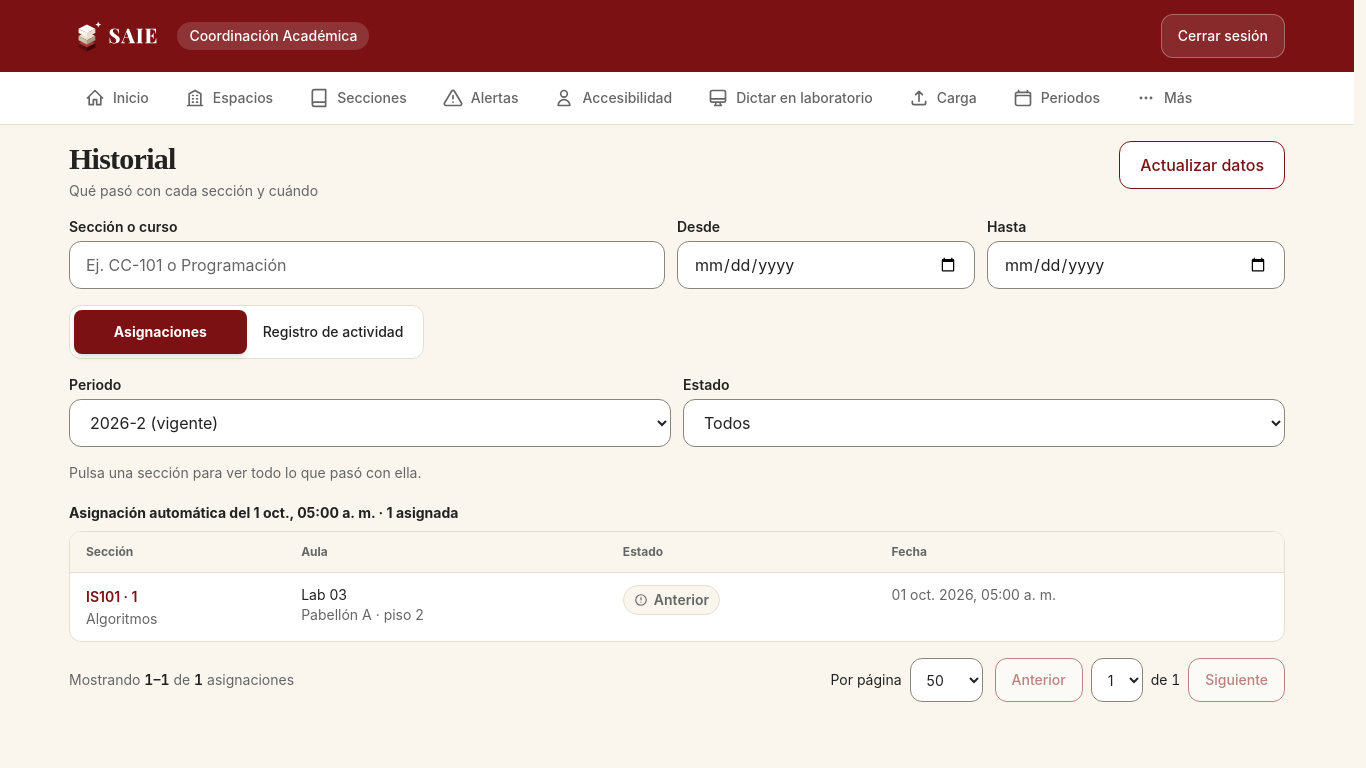
Test case: Auditoria e historial (Issue 4.32) › busca una sección y muestra solo sus registros (Issue 4.46)
The image size is (1366, 768).
Type "IS1" into the search field labelled "Sección o curso". click: point(367, 265)
box: [69,241,665,289]
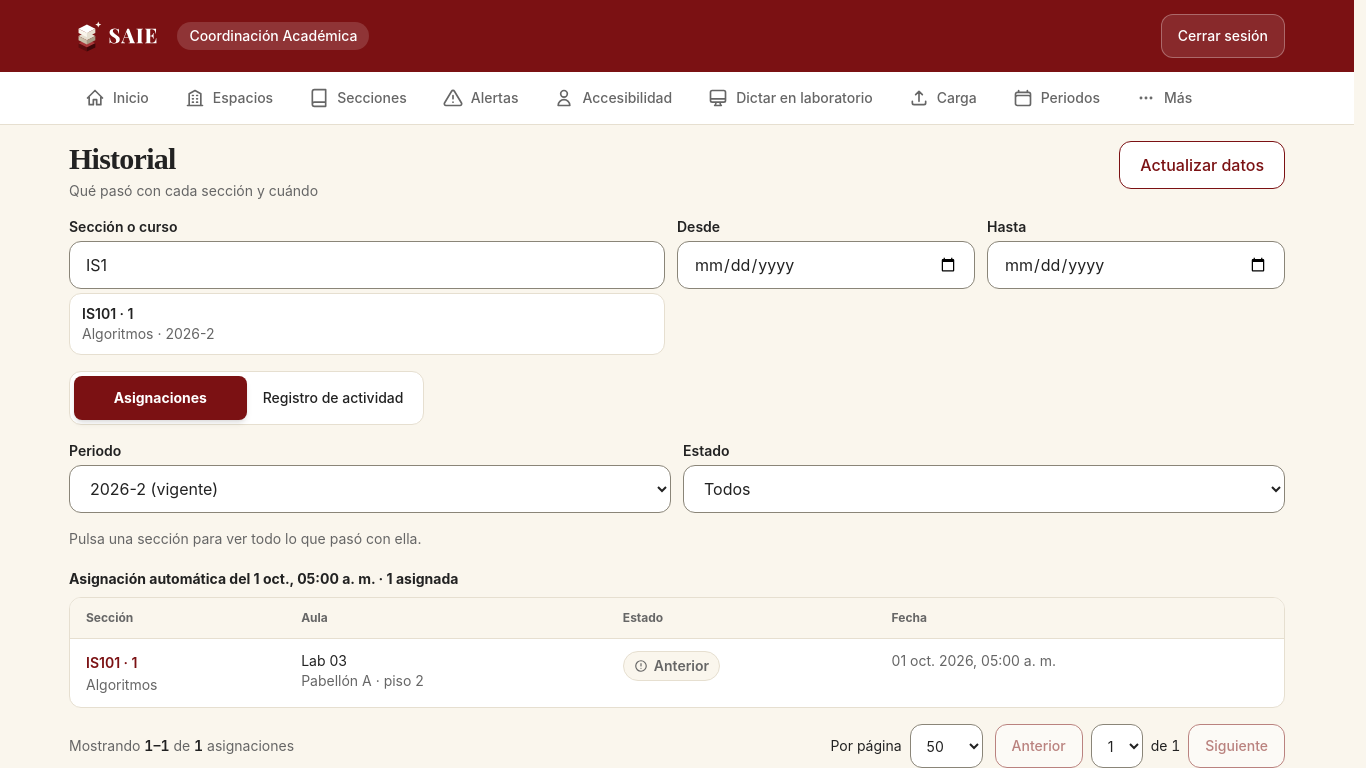
Click the button "IS101 · 1 Algoritmos · 2026-2". click: point(108, 314)
box: [74,298,660,350]
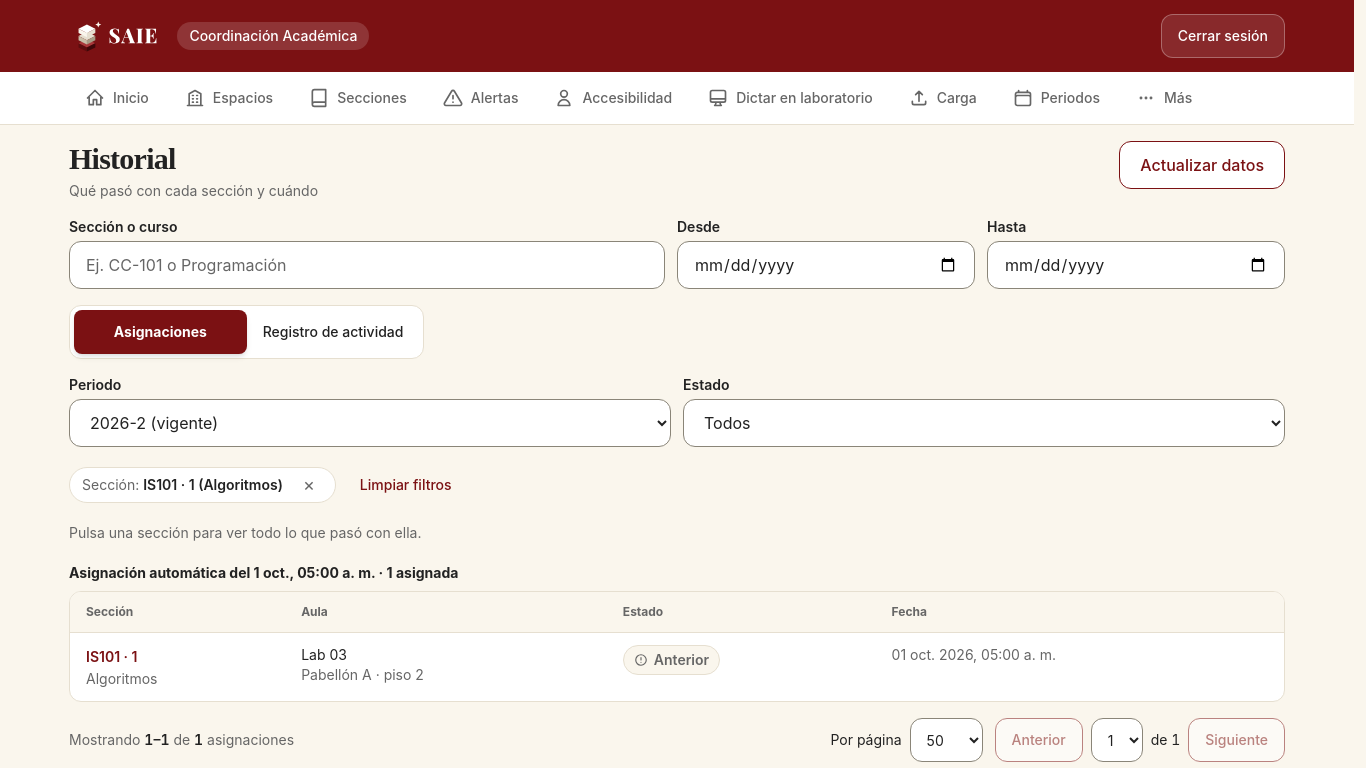
Now the button named "Quitar filtro Sección" is shown, box [287,463,331,507]
